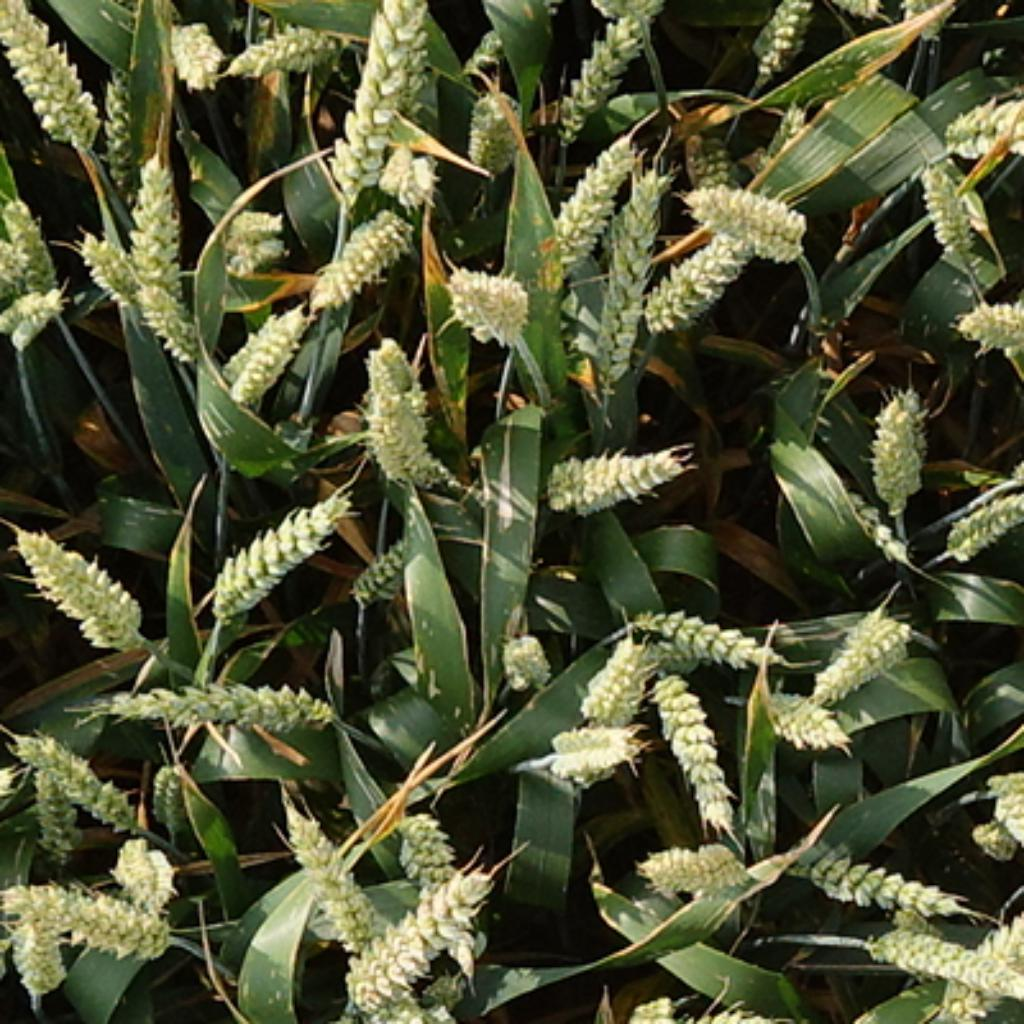0-0: (337, 870, 496, 1018), (194, 486, 353, 622), (325, 2, 432, 192), (7, 517, 151, 650), (588, 166, 668, 399), (104, 660, 350, 732), (647, 668, 747, 844), (128, 153, 209, 368), (2, 2, 112, 153), (281, 796, 384, 944), (396, 806, 486, 975), (2, 878, 174, 965), (2, 727, 138, 837), (642, 212, 762, 330), (791, 847, 972, 924), (540, 20, 657, 135), (542, 135, 640, 266), (865, 924, 1024, 1003), (624, 604, 803, 673), (542, 437, 696, 517), (309, 207, 414, 312), (803, 609, 916, 706), (683, 176, 811, 261), (220, 302, 314, 414), (862, 378, 936, 504), (343, 519, 437, 614), (440, 258, 535, 348), (929, 92, 1024, 181), (2, 896, 74, 1008), (632, 834, 757, 898), (363, 340, 433, 444), (581, 629, 652, 729), (230, 20, 348, 79), (913, 153, 983, 250), (842, 486, 919, 573), (550, 719, 647, 785), (460, 87, 529, 179), (747, 2, 824, 81), (762, 688, 849, 755), (97, 64, 140, 197), (952, 491, 1024, 570), (25, 765, 81, 865), (369, 389, 425, 488), (212, 207, 286, 281), (153, 15, 225, 89), (0, 205, 60, 284), (76, 230, 140, 302), (110, 832, 179, 898), (954, 284, 1024, 348), (371, 143, 440, 207), (985, 768, 1024, 880), (2, 284, 66, 348), (458, 17, 524, 79), (148, 752, 202, 824), (496, 635, 555, 696), (760, 99, 808, 171), (688, 135, 742, 199), (583, 2, 675, 38), (965, 816, 1018, 862), (900, 4, 959, 43), (0, 242, 37, 289)
